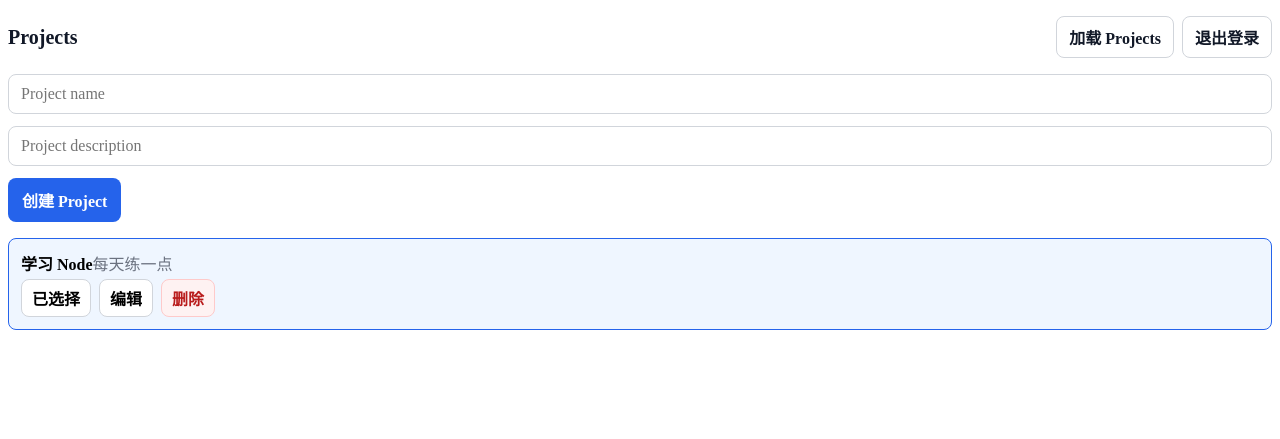
Test: ProjectListPanel › 点击删除后显示页面内确认区
Click the button "删除" at (188, 298), box 161,279 -> 215,317
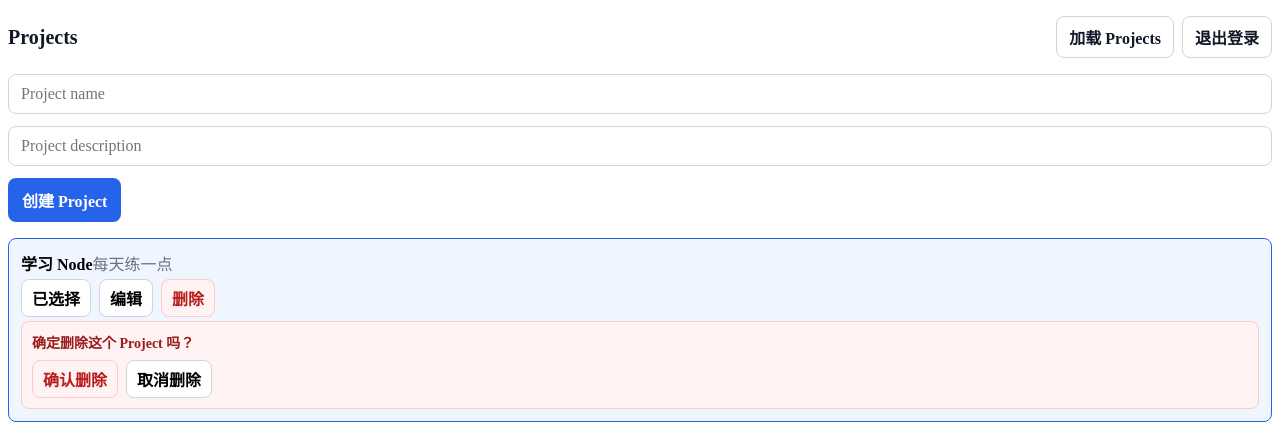
Expected: the text "确定删除这个 Project 吗？" is shown, 32,336 -> 194,351
Expected: the text "确认删除" is shown, 32,360 -> 118,398
Expected: the text "取消删除" is shown, 126,360 -> 212,398
